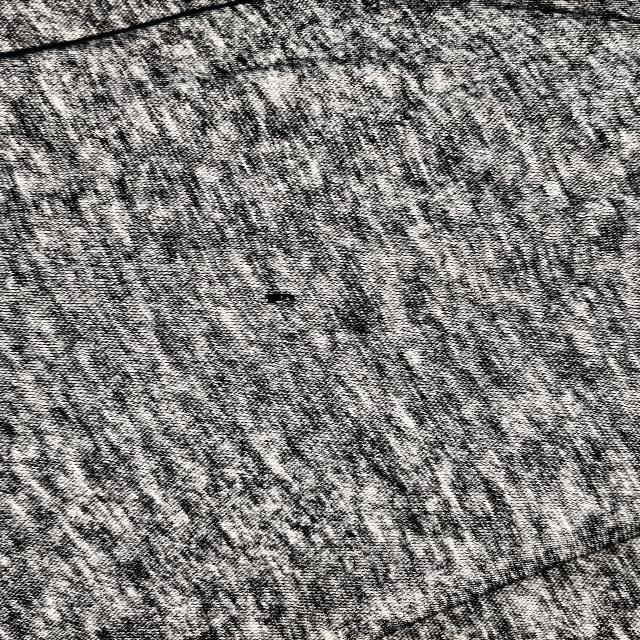Hole: (253, 286, 309, 310)
